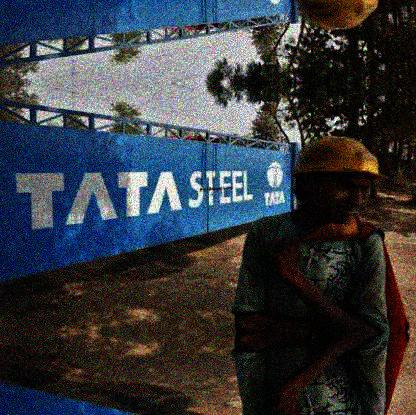helmet: (295, 135, 384, 223)
